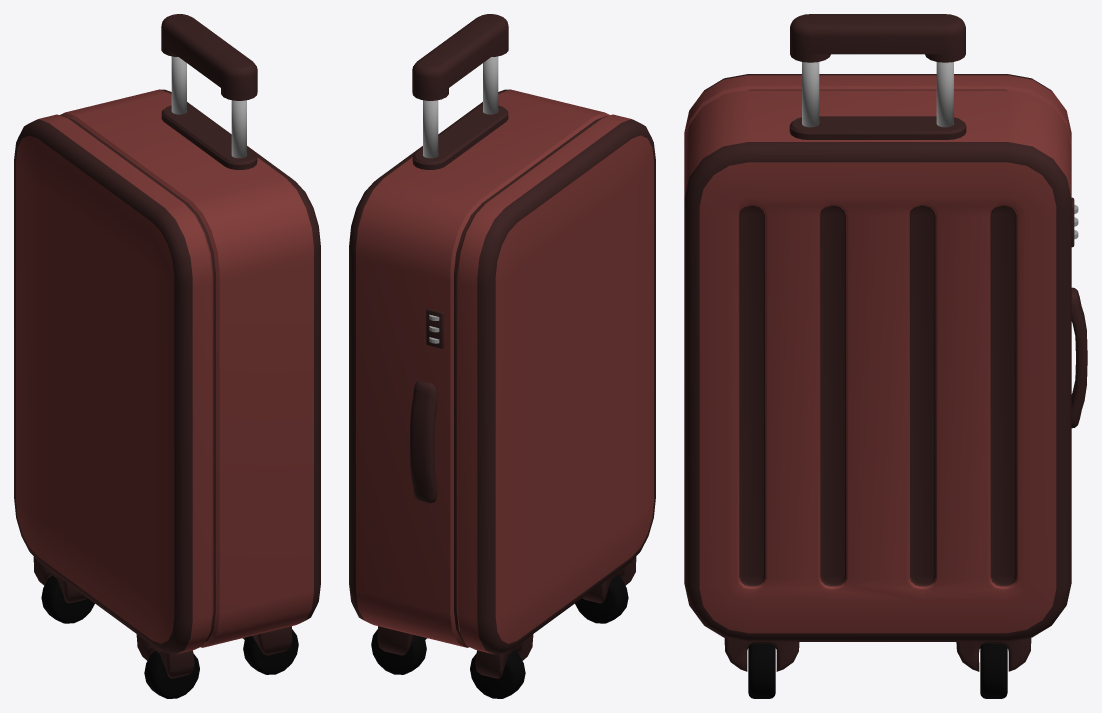
File: airport_suitcase_by_get3dmodels.glb
3 renders of one model, left to right at view 1: azimuth 30°, elevation 25°; view 2: azimuth 150°, elevation 25°; view 3: azimuth 270°, elevation 25°, orthographic. The views are drawn at different scales.
Parts seen in each view (by area): view 1: 17.7.Model; view 2: 17.7.Model; view 3: 17.7.Model.
Boxes of the visible parts, x1,y1,x2,y2 form: 17.7.Model: [14, 14, 320, 698]; 17.7.Model: [349, 14, 655, 698]; 17.7.Model: [684, 14, 1087, 698].
Size of what is drawn, in the model's own units: 0.2699 by 1.04 by 0.5652.
Materials: 1 (1 with a texture image).
